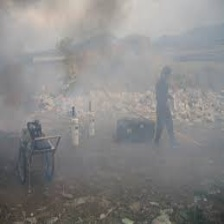smoke: (1, 3, 160, 105)
